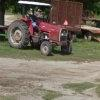Tractor: (9, 0, 72, 65)
